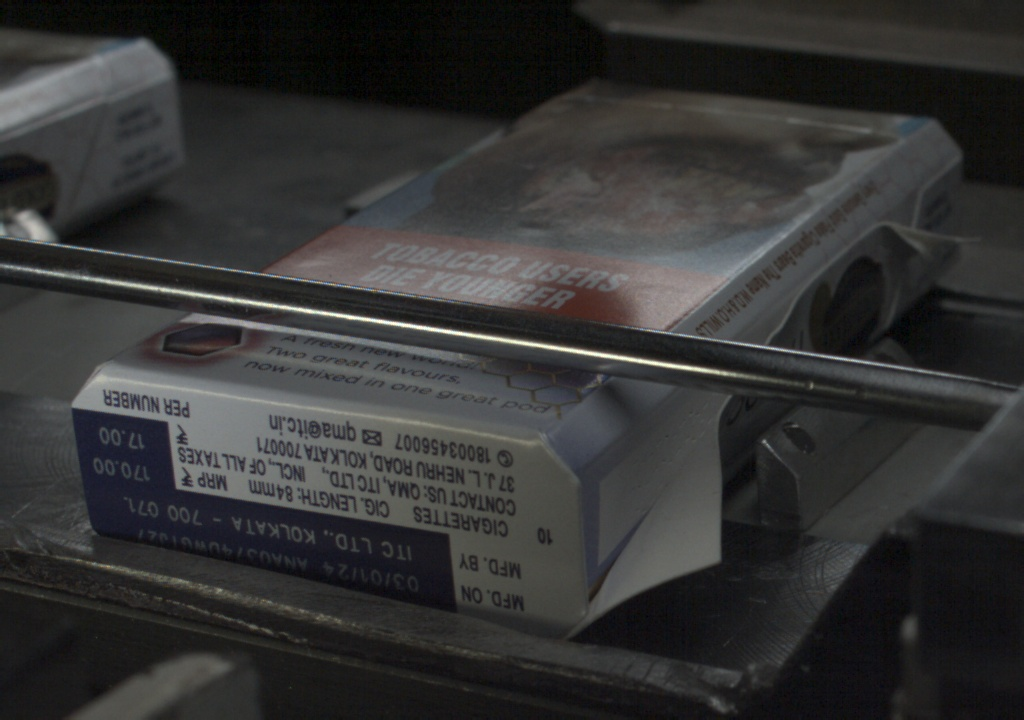g_bottom: (73, 382, 573, 638)
g_label: (80, 487, 454, 611)
g_miter: (915, 154, 966, 194)
ng_lmiter: (584, 397, 722, 603), (885, 208, 954, 265)
price: (72, 417, 177, 486)
